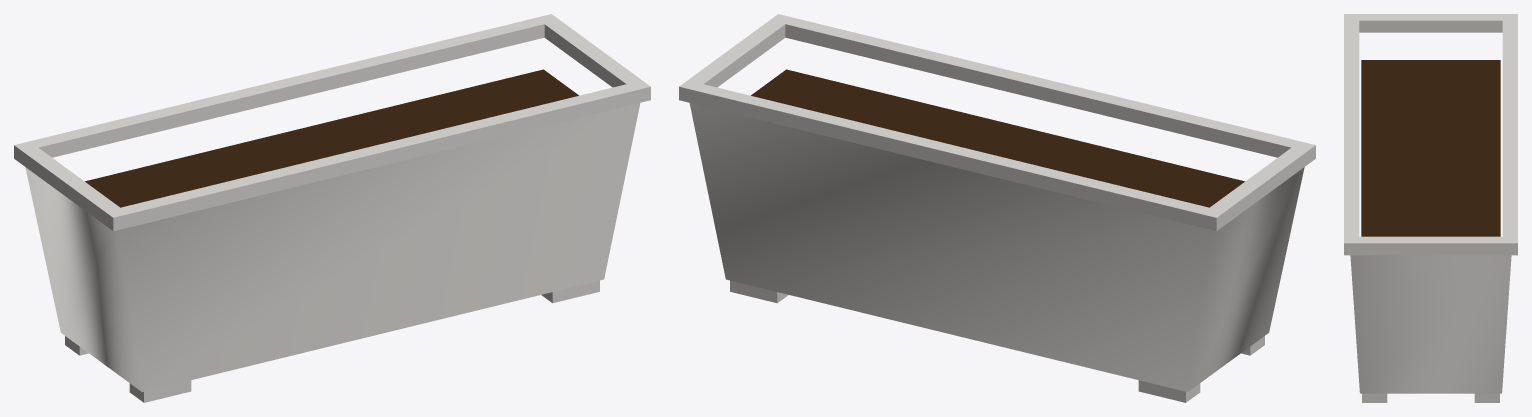
3 views of the same model, side by side, from view 1: azimuth 30°, elevation 25°; view 2: azimuth 150°, elevation 25°; view 3: azimuth 270°, elevation 25° (orthographic). The views are drawn at different scales.
Parts seen in each view (by area): view 1: shell, soil, rim-top-f, rim-top-b, rim-f, rim-b, rim-top-l, rim-top-r, foot-2, rim-l, foot-3, rim-r; view 2: shell, soil, rim-top-b, rim-top-f, rim-b, rim-f, rim-top-l, rim-top-r, foot-0, rim-l, foot-1, rim-r; view 3: soil, shell, rim-top-f, rim-top-b, rim-top-r, rim-top-l, rim-r, rim-l, foot-1, foot-3.
Part boxes in pixels (box(x1,y1,x2,y2)): shell: box(25, 103, 640, 391); soil: box(85, 69, 578, 207); rim-top-f: box(104, 80, 650, 223); rim-top-b: box(14, 14, 559, 157); rim-f: box(104, 93, 650, 231); rim-b: box(14, 30, 544, 164); rim-top-l: box(22, 147, 119, 217); rim-top-r: box(544, 20, 641, 85); foot-2: box(129, 380, 191, 402); rim-l: box(22, 158, 104, 224); foot-3: box(541, 280, 599, 303); rim-r: box(544, 30, 619, 87); shell: box(689, 103, 1304, 391); soil: box(751, 69, 1244, 207); rim-top-b: box(679, 80, 1225, 223); rim-top-f: box(770, 14, 1315, 157); rim-b: box(679, 93, 1225, 231); rim-f: box(785, 30, 1315, 164); rim-top-l: box(1210, 147, 1307, 217); rim-top-r: box(688, 20, 785, 85); foot-0: box(1138, 380, 1200, 402); rim-l: box(1225, 158, 1307, 224); foot-1: box(730, 280, 788, 303); rim-r: box(710, 30, 785, 87); soil: box(1361, 60, 1500, 236); shell: box(1350, 255, 1511, 393); rim-top-f: box(1344, 14, 1359, 248); rim-top-b: box(1502, 14, 1517, 248); rim-top-r: box(1359, 236, 1502, 248); rim-top-l: box(1359, 14, 1502, 25); rim-r: box(1359, 248, 1502, 255); rim-l: box(1359, 26, 1502, 32); foot-1: box(1474, 393, 1499, 402); foot-3: box(1362, 393, 1387, 402).
Size of the model in its own units: 1 by 0.36 by 0.32.
